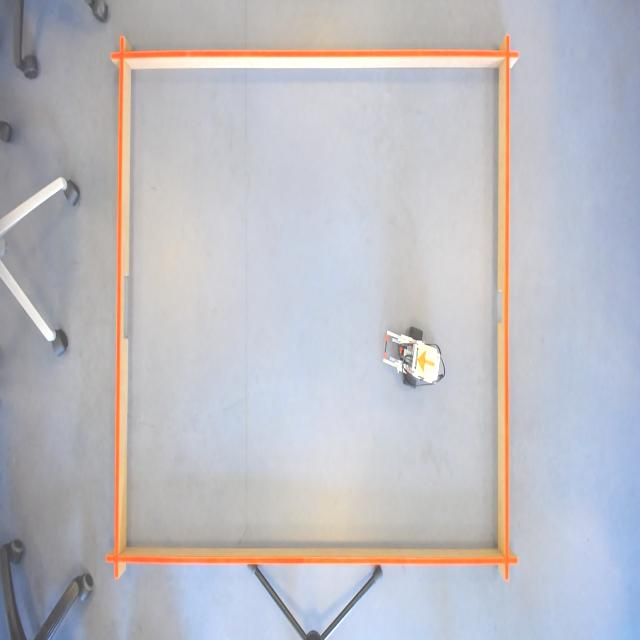robot: (414, 339, 438, 383)
